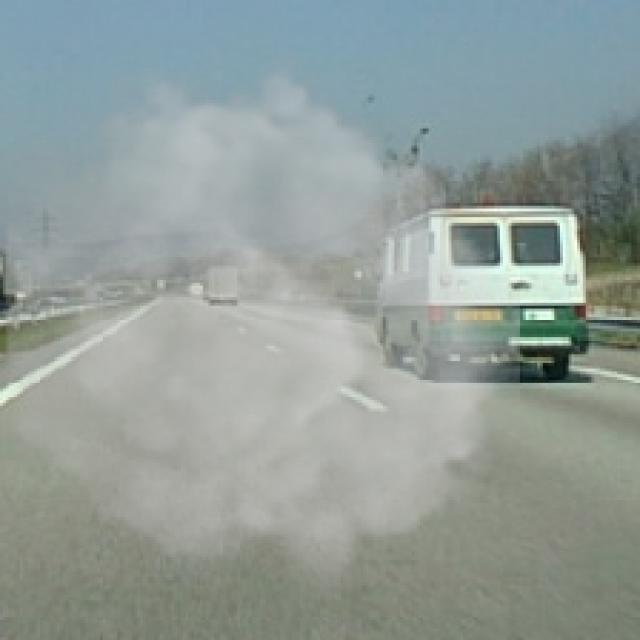smoke: (6, 48, 520, 603)
